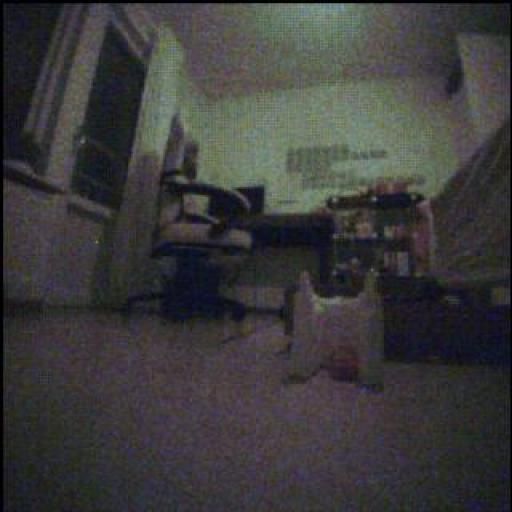basket: (325, 347, 360, 382)
